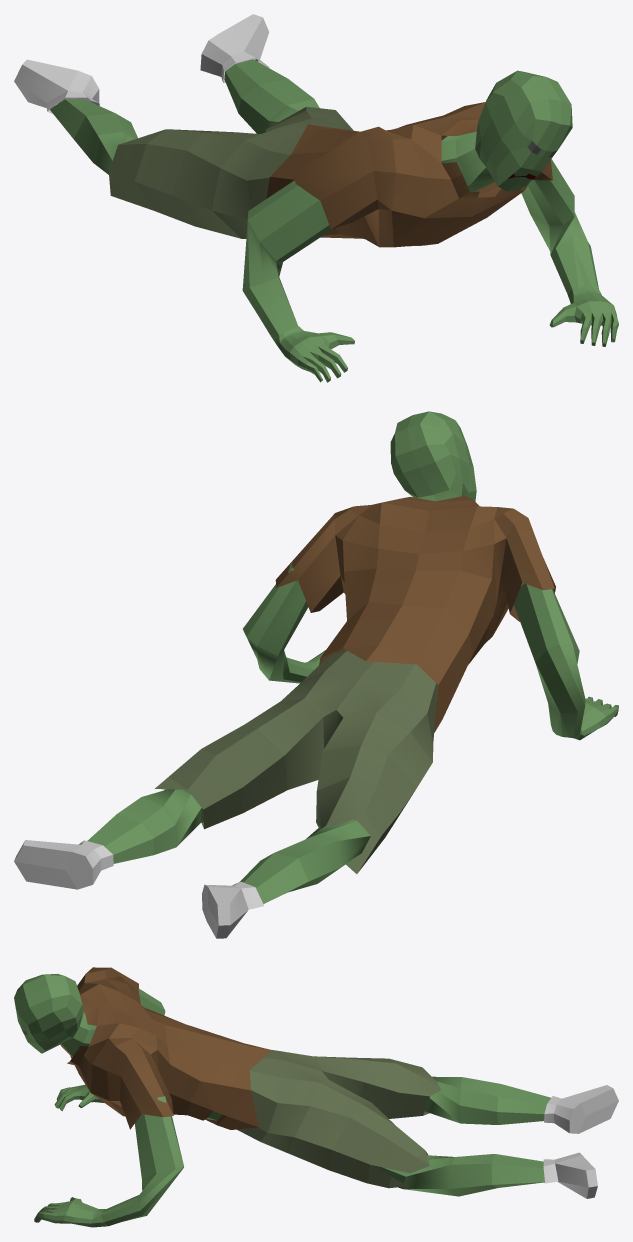
File: ZombieCrawl(146).obj
The picture shows the model from 3 angles, top to bottom: view 1: azimuth 30°, elevation 25°; view 2: azimuth 150°, elevation 25°; view 3: azimuth 270°, elevation 25°; orthographic projection. The views are drawn at different scales.
Visible parts, largest first — view 1: Object001; view 2: Object001; view 3: Object001.
Boxes of the visible parts, x1,y1,x2,y2 form: Object001: (14, 14, 618, 382); Object001: (14, 411, 618, 938); Object001: (14, 967, 618, 1227).
Size of the model in its own units: 29.65 by 23.31 by 57.52.
